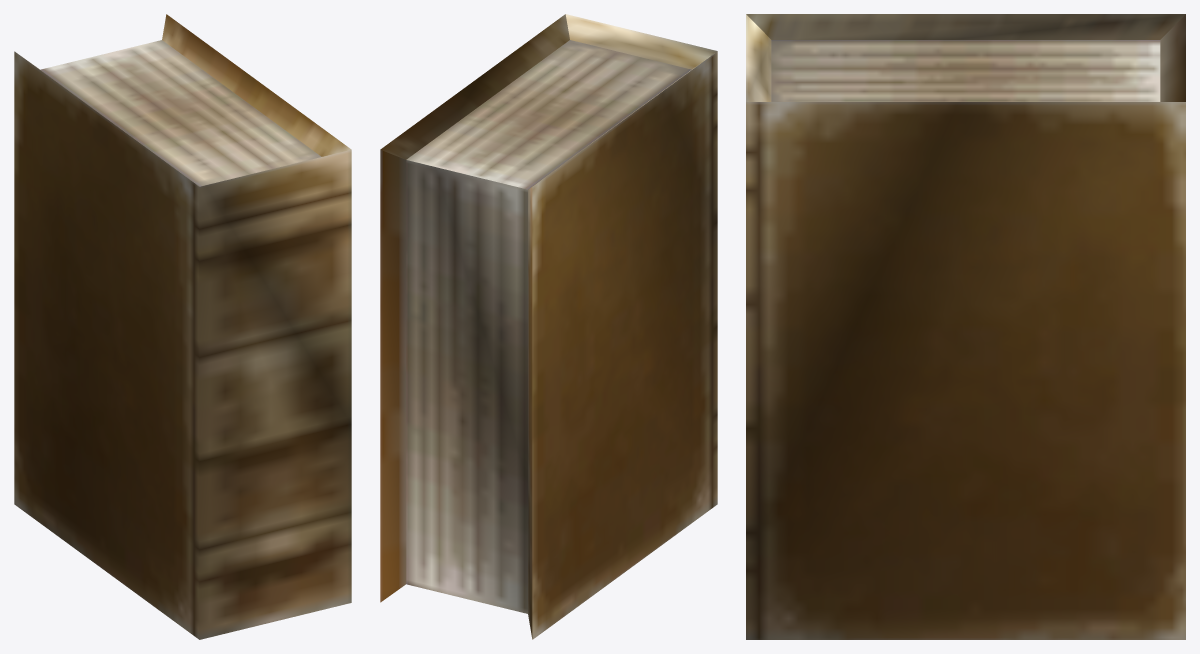
Rendered from bookmedium02.obj.
The picture shows the model from 3 angles, left to right: view 1: azimuth 30°, elevation 25°; view 2: azimuth 150°, elevation 25°; view 3: azimuth 270°, elevation 25°; orthographic projection. The views are drawn at different scales.
Parts seen in each view (by area): view 1: bookmedium02.m2; view 2: bookmedium02.m2; view 3: bookmedium02.m2.
Part boxes in pixels (left/top/right/bottom): bookmedium02.m2: left=14, top=14, right=351, bottom=639; bookmedium02.m2: left=380, top=14, right=717, bottom=639; bookmedium02.m2: left=746, top=14, right=1185, bottom=639.
Bounding box in the file's own units: 0.2122 × 0.6038 × 0.4477.
Materials: 1 (1 with a texture image).
